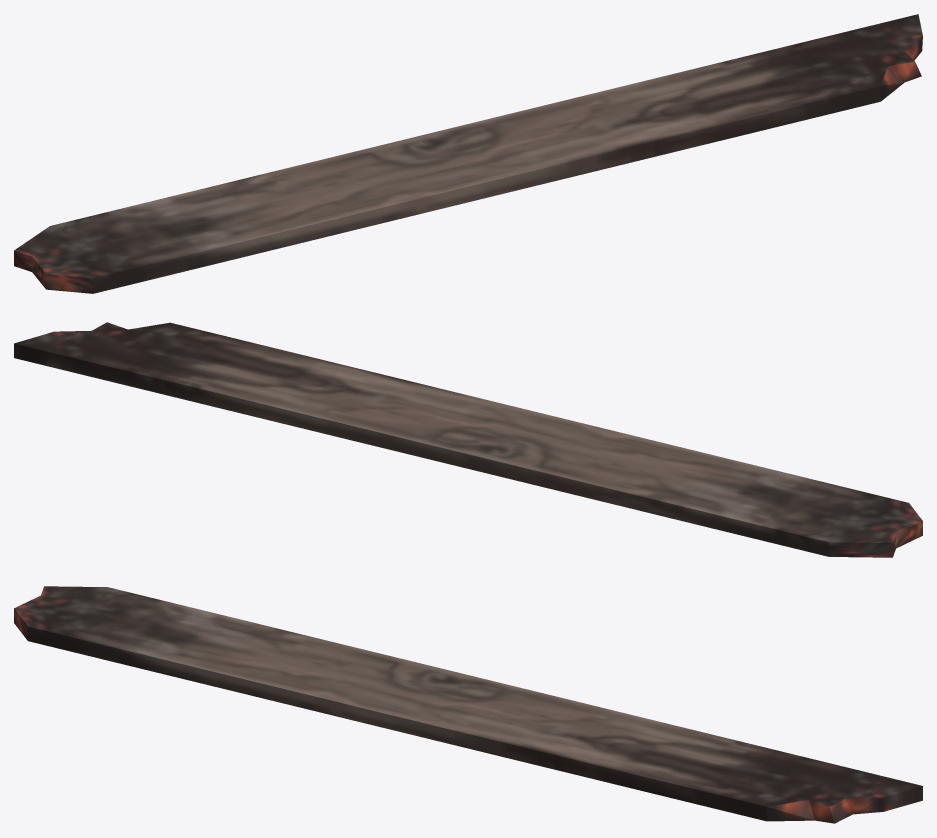
Rendered from sc_heishi_muban_001_a.FBX.
3 renders of one model, top to bottom at view 1: azimuth 30°, elevation 25°; view 2: azimuth 150°, elevation 25°; view 3: azimuth 330°, elevation 25°, orthographic. The views are drawn at different scales.
Visible parts, largest first — view 1: sc_heishi_muban_001_a; view 2: sc_heishi_muban_001_a; view 3: sc_heishi_muban_001_a.
Boxes of the visible parts, box(x1,y1,x2,y2) form: sc_heishi_muban_001_a: box(14, 14, 922, 293); sc_heishi_muban_001_a: box(14, 322, 922, 557); sc_heishi_muban_001_a: box(14, 586, 922, 823).
Bounding box in the file's own units: 1.98 × 0.032 × 0.2395.
Materials: 1 (1 with a texture image).
